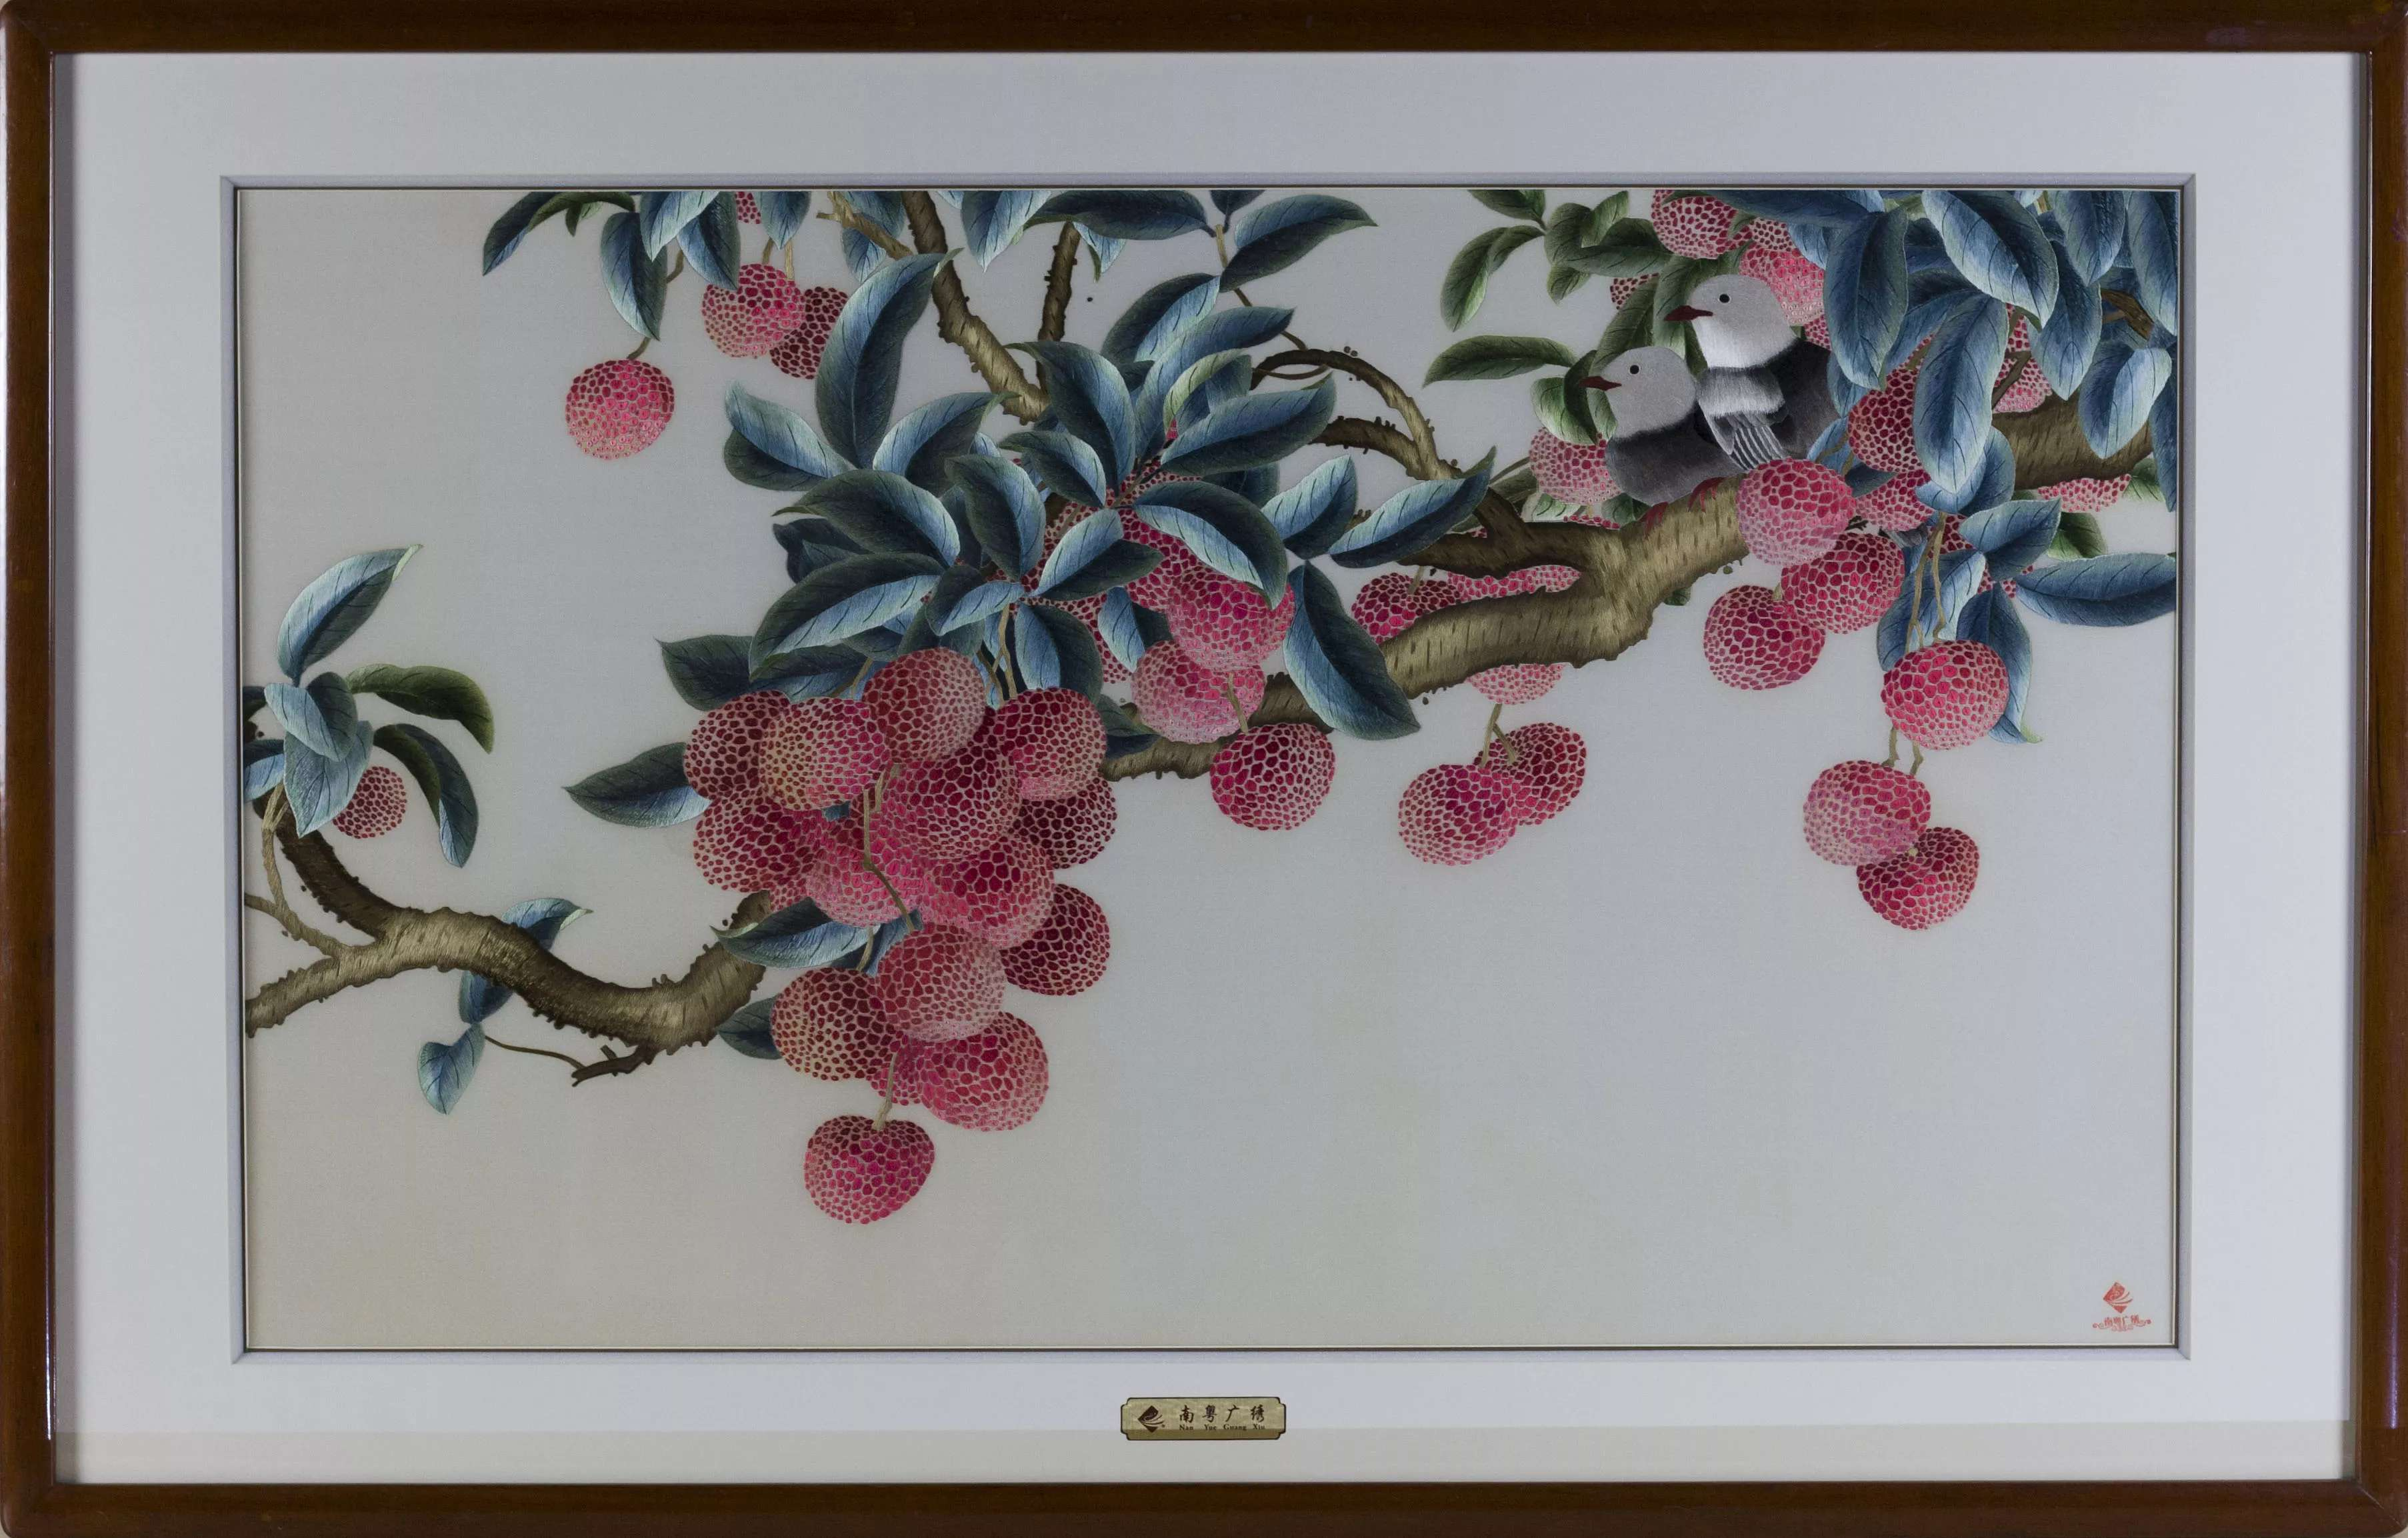bird: (1660, 272, 1880, 464), (1583, 335, 1736, 506)
lychee: (979, 521, 1174, 685), (1051, 449, 1218, 613), (765, 952, 916, 1085), (904, 1008, 1053, 1125), (855, 643, 1002, 760), (1208, 706, 1336, 829), (883, 746, 1021, 859), (804, 1108, 937, 1224), (879, 918, 1007, 1038), (921, 836, 1055, 950), (1130, 637, 1265, 746), (758, 695, 885, 809), (1883, 634, 2013, 744), (1165, 562, 1297, 671), (1729, 451, 1862, 555), (1701, 579, 1825, 690), (807, 815, 925, 927), (1855, 825, 1983, 927), (1810, 755, 1929, 864), (992, 686, 1106, 799), (693, 799, 828, 892), (1004, 881, 1113, 994), (563, 351, 676, 460), (683, 690, 792, 801), (1399, 764, 1515, 867), (1787, 527, 1906, 627), (1473, 723, 1587, 825), (1848, 369, 1948, 472), (1014, 773, 1118, 869), (702, 263, 804, 358), (1351, 574, 1466, 653), (1985, 311, 2066, 413), (770, 284, 851, 381), (1532, 427, 1629, 502), (1652, 188, 1752, 258), (1739, 249, 1829, 327), (2036, 460, 2134, 516), (332, 767, 405, 839), (1855, 471, 1934, 530), (1466, 662, 1564, 706), (867, 1039, 927, 1104), (1446, 569, 1537, 602), (721, 190, 799, 226), (1750, 216, 1801, 251), (1932, 513, 1973, 555), (1608, 274, 1648, 309), (769, 878, 804, 911), (1537, 565, 1581, 590), (1806, 314, 1832, 346)
